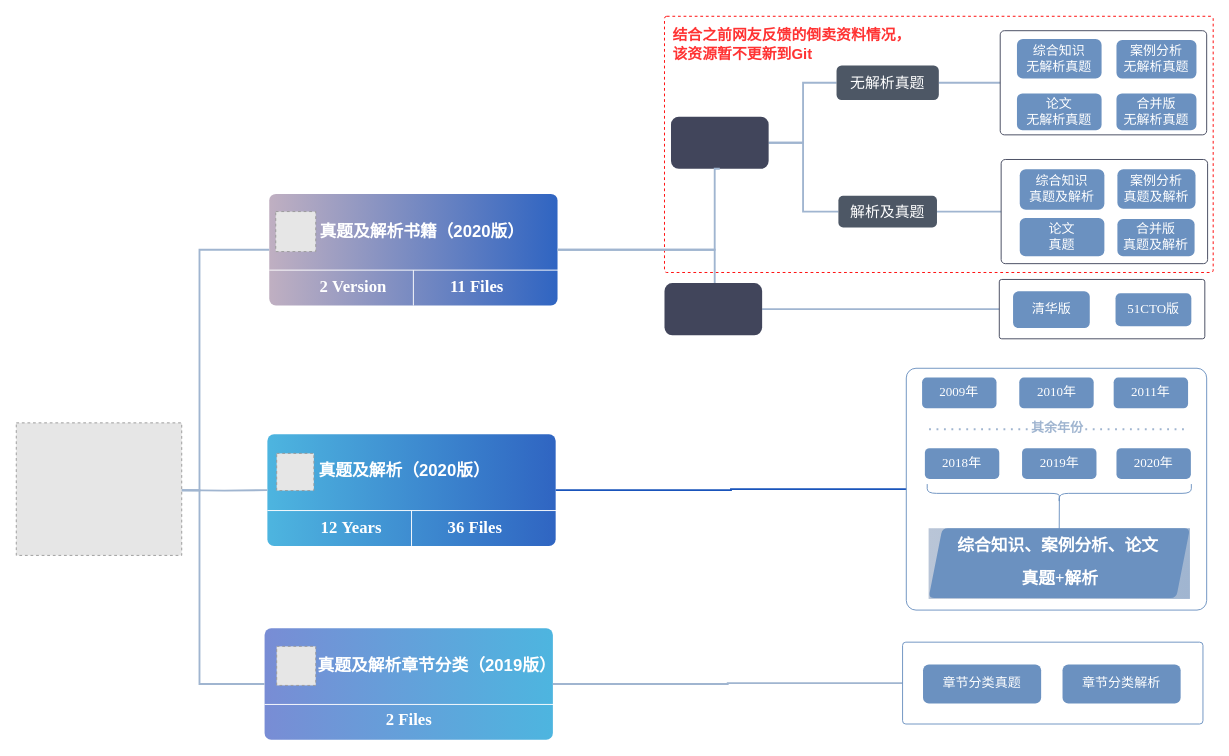
The diagram is 1229 pixels wide and 756 high, and some of its shapes have lost their labels. Grey dashed boxes stand in for pictures. The shapes that lost their labels are listed below. From the top down, each one's centre as x and y in pixels, then its label:
point (719, 142): 梅花西飞版
point (713, 309): 其他版
